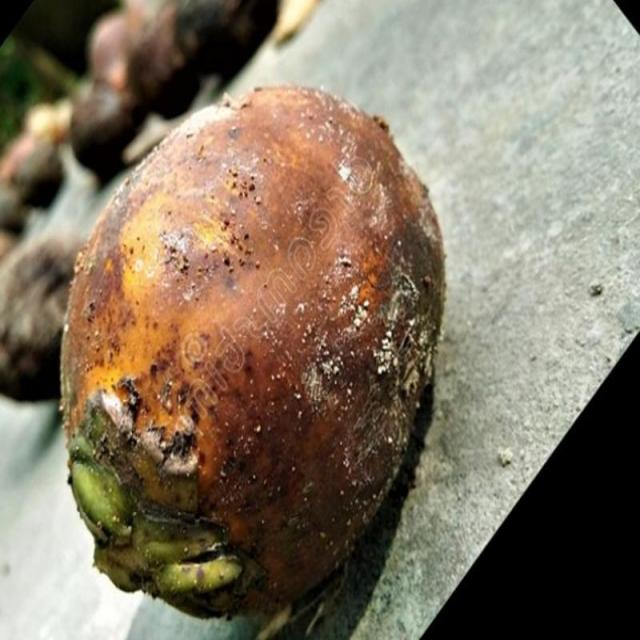damaged: (61, 86, 444, 637)
